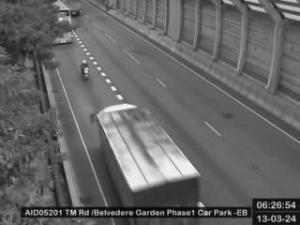bus: (51, 0, 71, 42)
motorbike: (80, 60, 90, 80)
truck: (91, 104, 203, 225), (61, 0, 81, 14)
